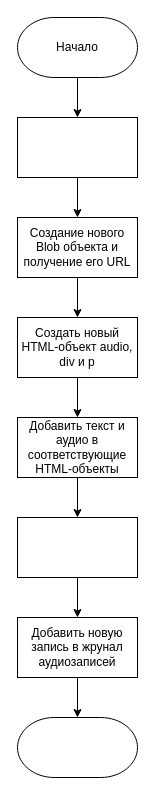
The diagram is 155 pixels wide and 795 high, and some of its shapes have lost their labels. Each missing label, with the centre of its shape:
"Конец" goes at pixel 77 747.
"Получение текущего времени" goes at pixel 77 147.
"Создать новый блок записи" goes at pixel 77 547.
